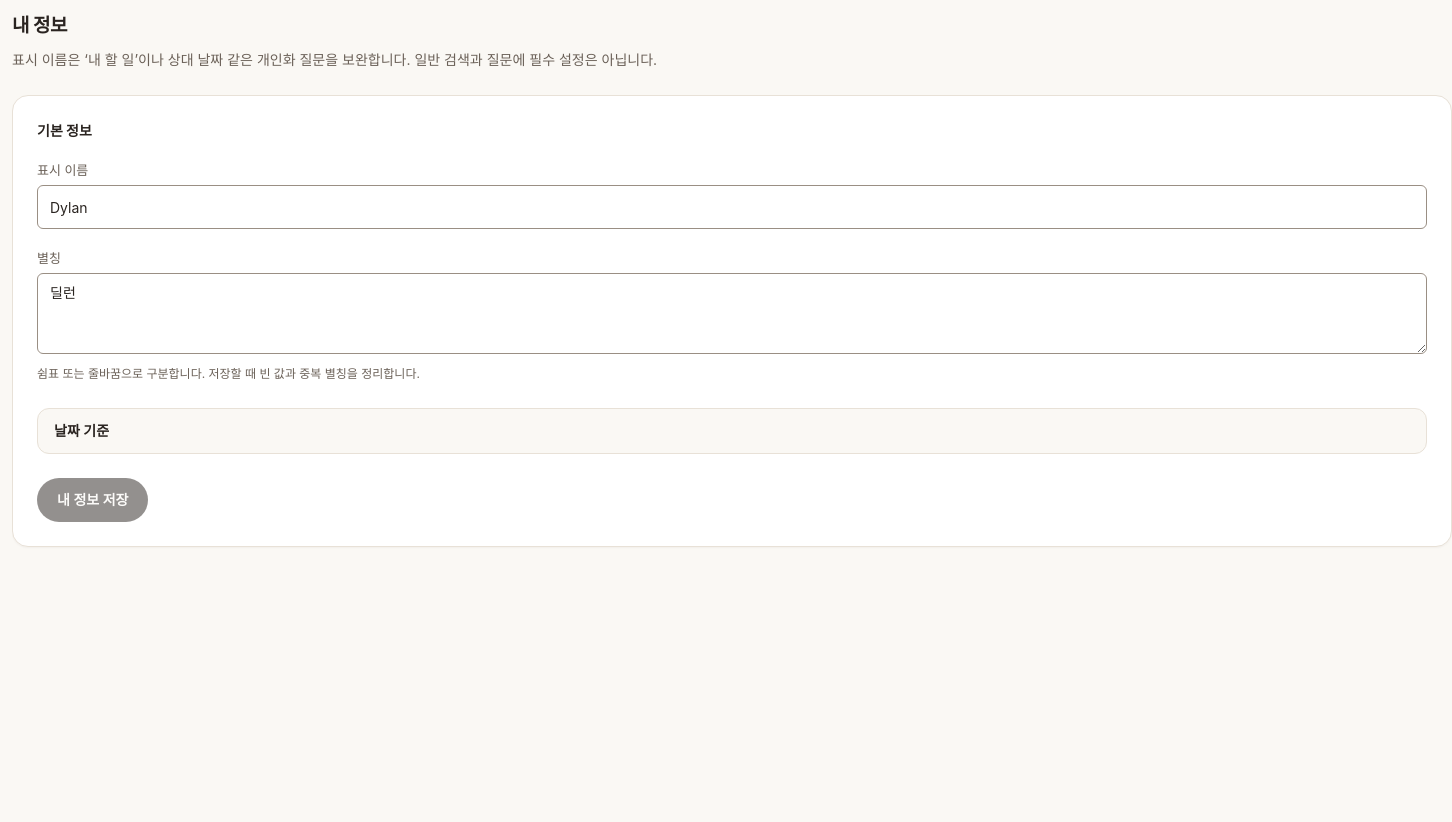
Scenario: UserProfileForm › keeps the date disclosure open for validation and blocks an invalid timezone
Expected: the field labelled "표시 이름" is shown, [37,185,1427,229]
Click the heading "날짜 기준" at (82, 431), box [54,422,109,439]
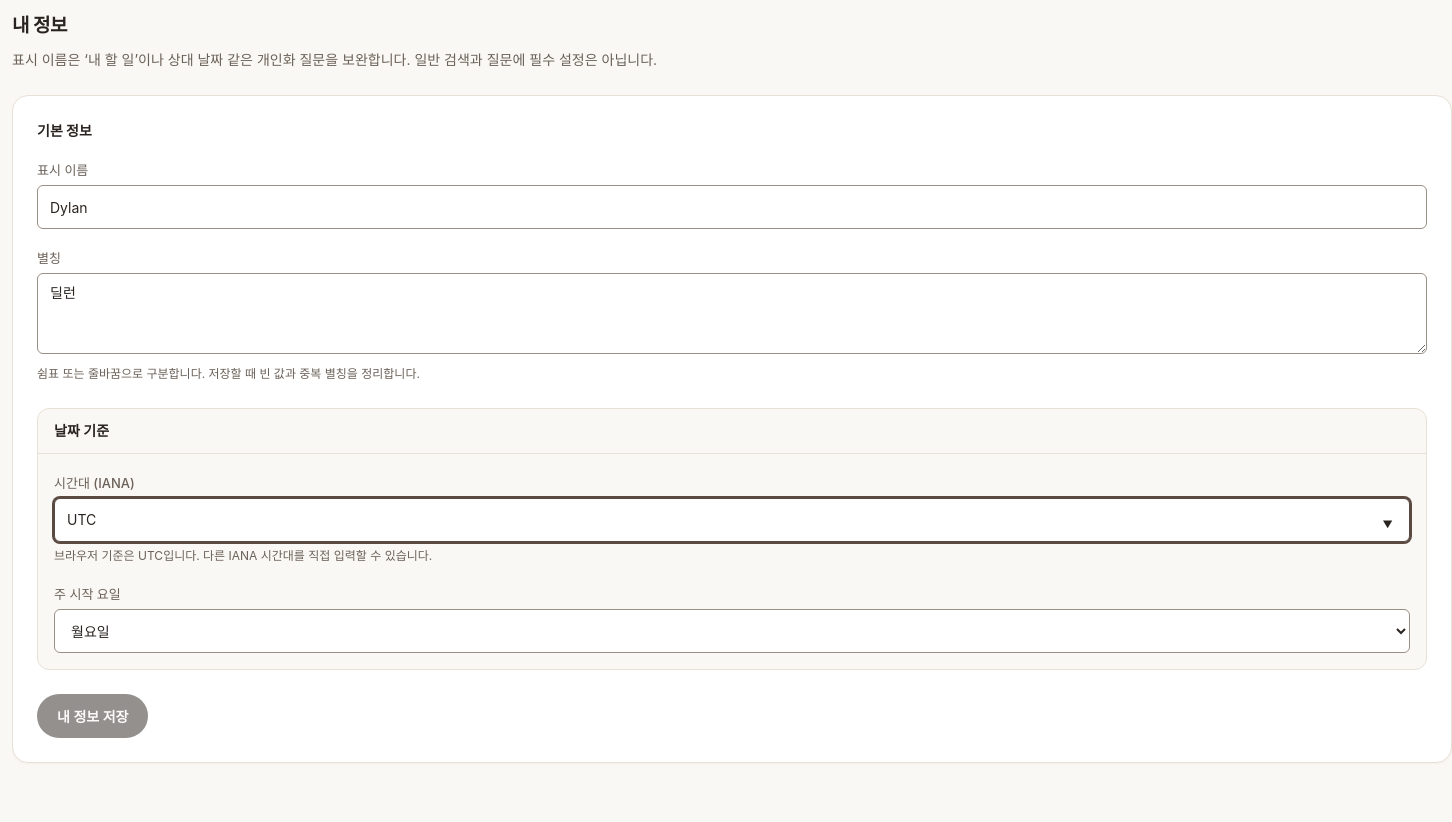
Replace the text in the field labelled "시간대 (IANA)" with "Mars/Base" at (732, 520), box [54,498,1410,542]
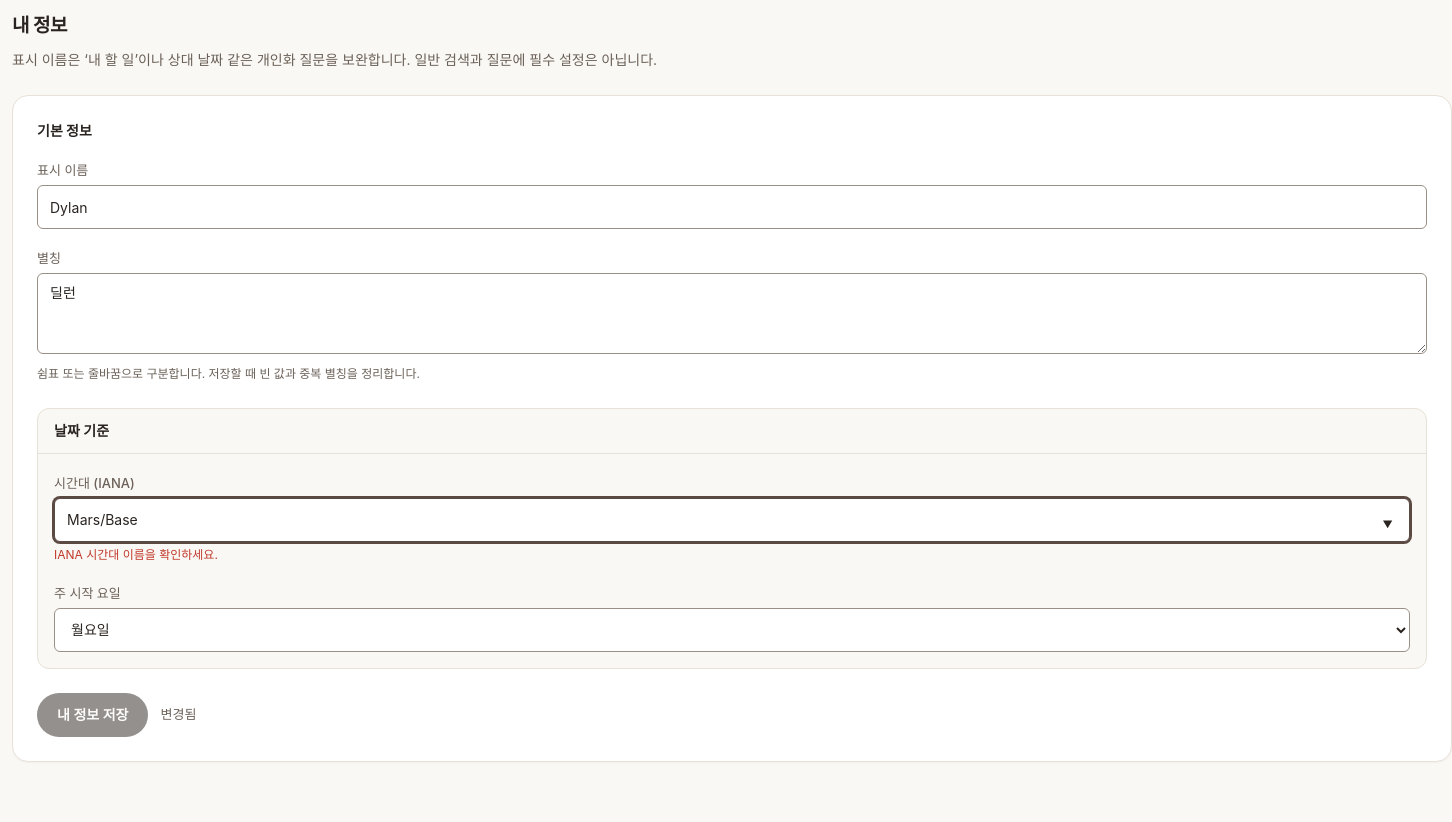
Expected: the button "내 정보 저장" is disabled, [37,693,148,737]
Expected: the text "IANA 시간대 이름을 확인하세요." is shown, [54,547,218,562]
